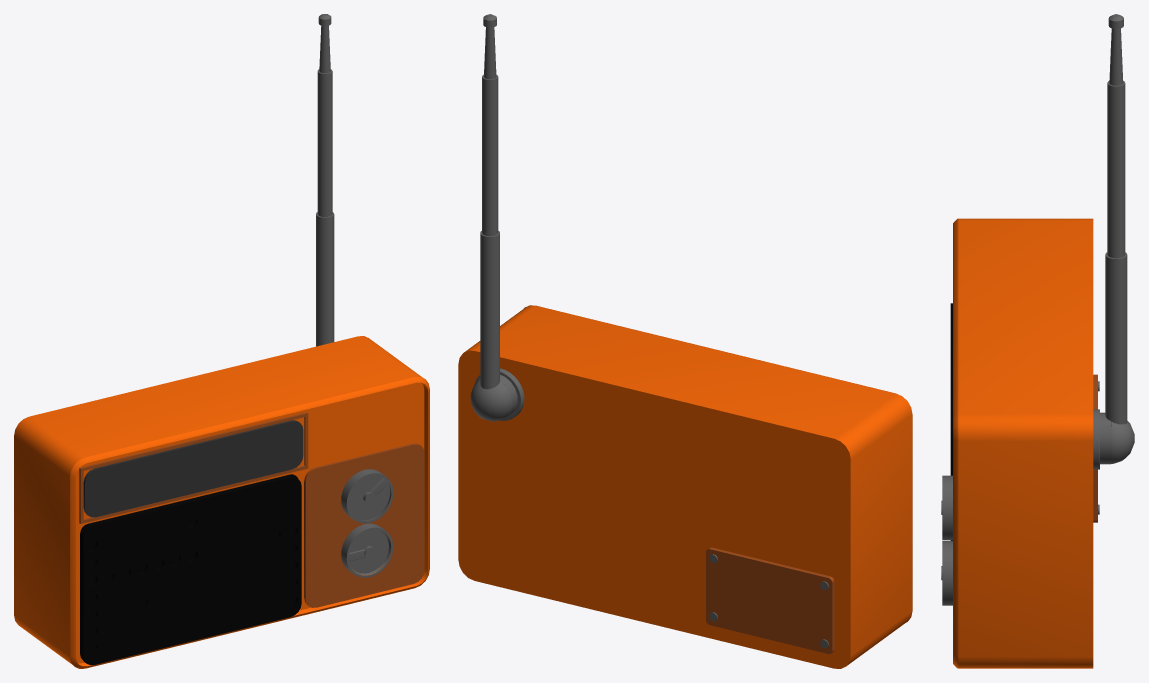
The model's file is Radio.fbx.
The picture shows the model from 3 angles, left to right: view 1: azimuth 30°, elevation 25°; view 2: azimuth 150°, elevation 25°; view 3: azimuth 270°, elevation 25°; orthographic projection. The views are drawn at different scales.
Parts seen in each view (by area): view 1: Cube, Cube.004, Plane, Cube.003, Cylinder, Circle.001; view 2: Cube, Plane, Cylinder; view 3: Cube, Cylinder, Circle.001, Cube.004, Plane.
Part boxes in pixels (<box>): Cube: <box>14,336,429,668</box>; Cube.004: <box>80,474,301,664</box>; Plane: <box>79,412,424,607</box>; Cube.003: <box>83,420,303,517</box>; Cylinder: <box>316,14,334,346</box>; Circle.001: <box>341,469,393,577</box>; Cube: <box>458,305,912,668</box>; Plane: <box>706,547,834,654</box>; Cylinder: <box>470,14,524,421</box>; Cube: <box>953,218,1093,668</box>; Cylinder: <box>1093,14,1134,469</box>; Circle.001: <box>941,475,952,605</box>; Cube.004: <box>950,303,952,540</box>; Plane: <box>1093,374,1097,522</box>.
Size of the model in its own units: 714 by 1006 by 277.
